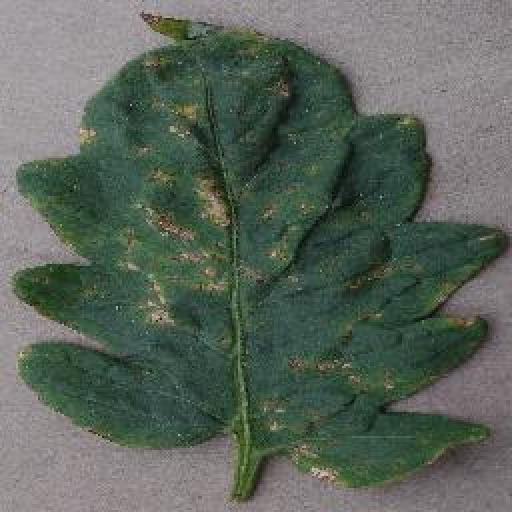Bacterial Spot: (5, 8, 512, 493)
